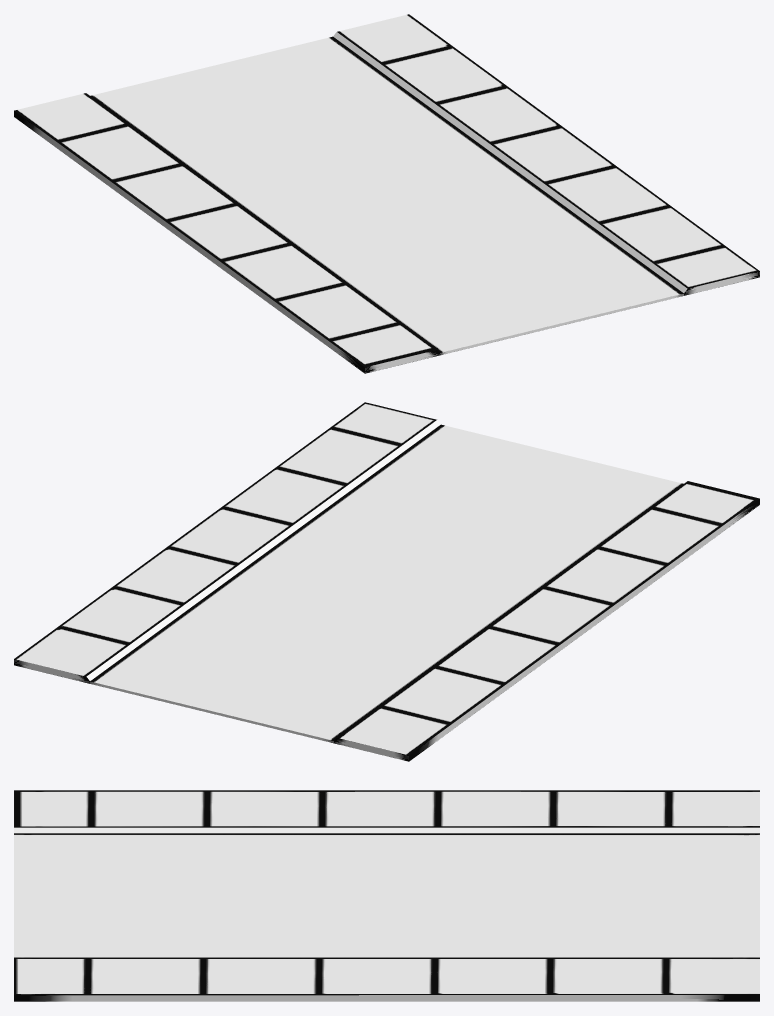
File: Ground.fbx
3 views of the same model, one above another, from view 1: azimuth 30°, elevation 25°; view 2: azimuth 150°, elevation 25°; view 3: azimuth 270°, elevation 25° (orthographic). The views are drawn at different scales.
Visible parts, largest first — view 1: Cube; view 2: Cube; view 3: Cube.
Part boxes in pixels (x1,y1,x2,y2): Cube: (14, 14, 759, 373); Cube: (14, 402, 759, 761); Cube: (14, 790, 759, 1001).
Size of the model in its own units: 2600 by 39.6 by 4000.
